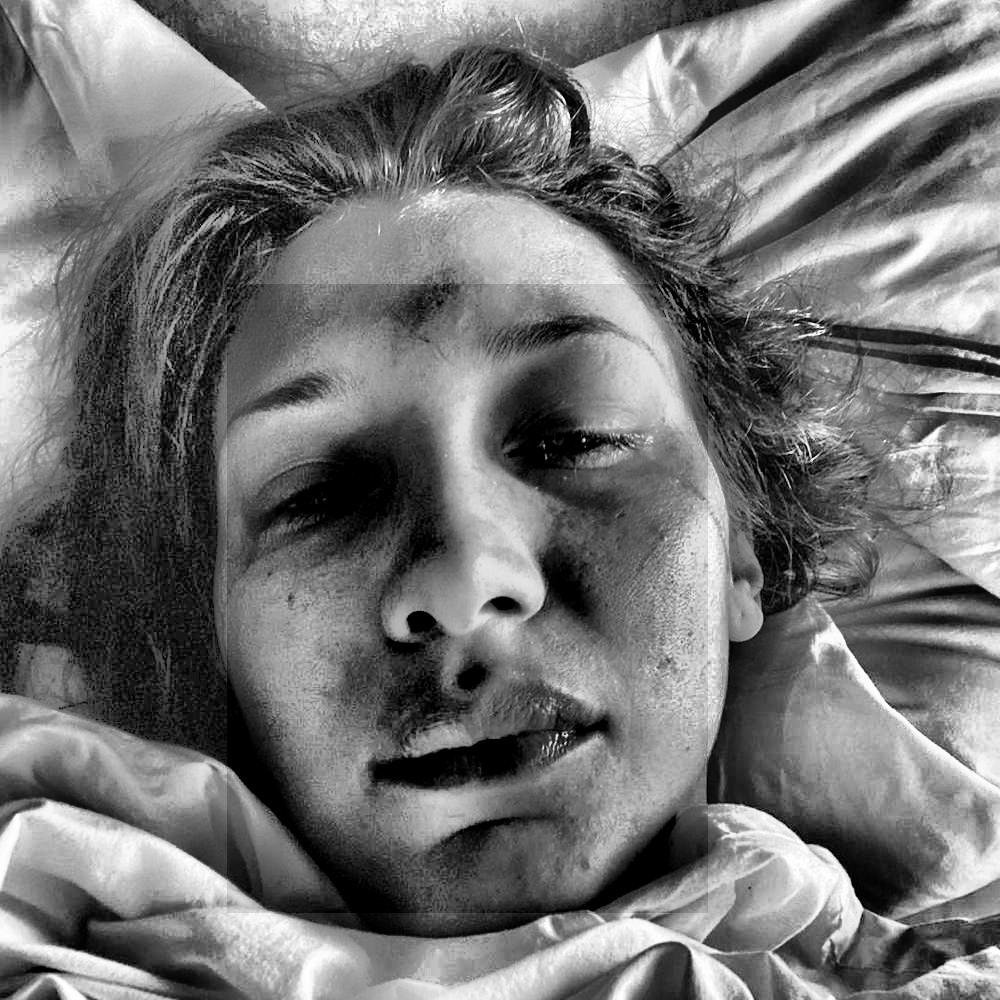sad: (227, 285, 708, 914)
